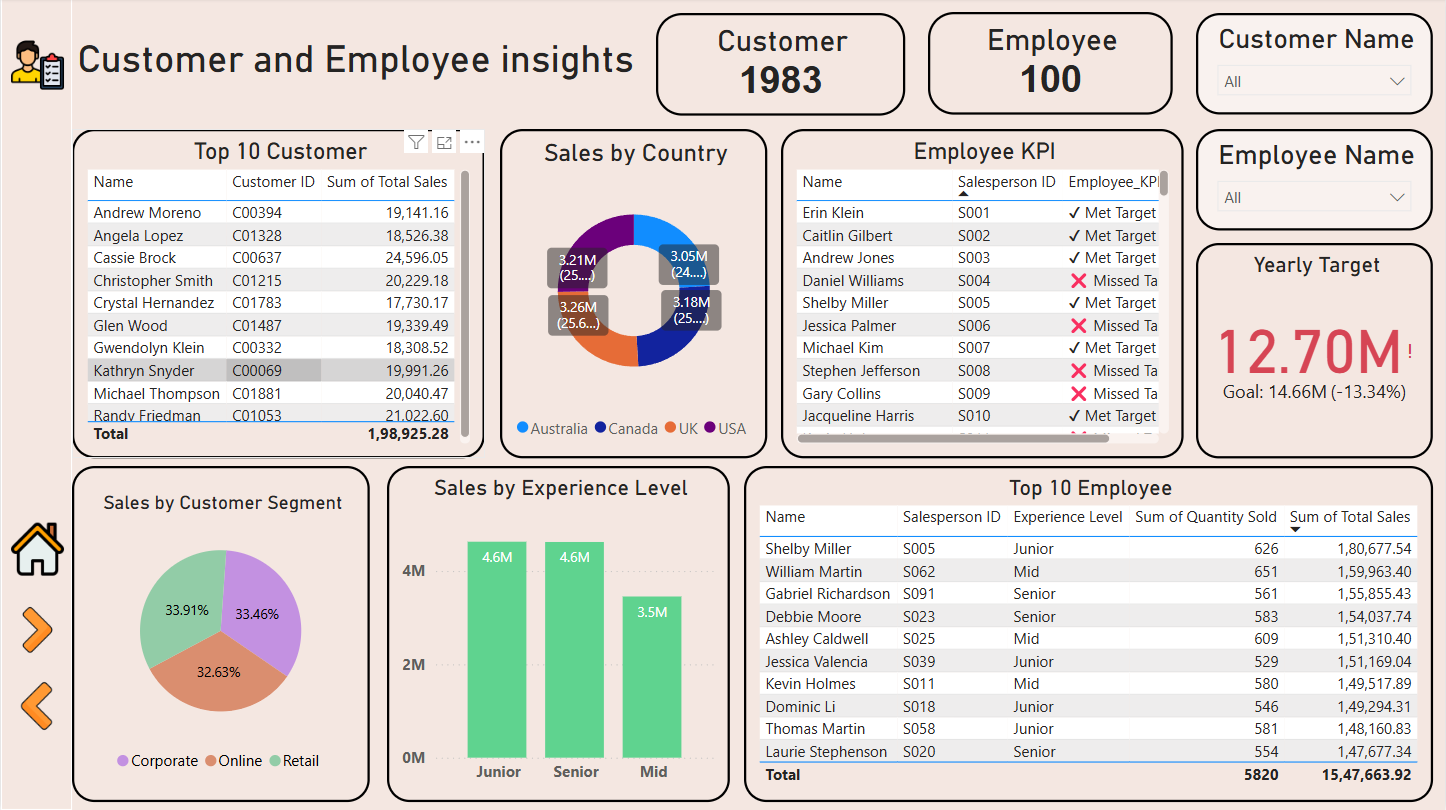

The page's visual inventory and layout, read from the dashboard file:
{"tool":"powerbi","page":{"name":"Customer & Salesperson Insights","canvas":[1280,720],"ordinal":1},"visuals":[{"type":"shape","box":[0,0,63.2,719.8],"z":0},{"type":"image","box":[0,600.1,63.2,55.4],"z":1000},{"type":"image","box":[1,460.1,62.2,57.4],"z":2000},{"type":"image","box":[1,534,62.2,53.5],"z":3000},{"type":"image","box":[1,31,62.2,57.4],"z":4000},{"type":"card","title":"Customer","fields":{"Values":["Count(CustomerDetails.Customer ID)"]},"box":[580.7,13.6,220.8,91.4],"z":5000},{"type":"card","title":"Employee","fields":{"Values":["Count(SalesPerson.Salesperson ID)"]},"box":[821.9,12.6,216.9,91.4],"z":6000},{"type":"slicer","title":"Employee Name","fields":{"Values":["SalesPerson.Salesperson ID"]},"box":[1059.2,115.7,210.1,90.5],"z":7000},{"type":"slicer","title":"Customer Name","fields":{"Values":["CustomerDetails.Name"]},"box":[1059.2,13.6,210.1,90.5],"z":8000},{"type":"columnChart","title":"Sales by Experience Level","fields":{"Category":["SalesPerson.Experience Level"],"Y":["Sum(SalesTransaction.Total Sales)"]},"box":[342.4,415.3,304.4,297.6],"z":9000},{"type":"tableEx","title":"Top 10 Employee","fields":{"Values":["SalesPerson.Name","SalesPerson.Salesperson ID","SalesPerson.Experience Level","Sum(SalesTransaction.Quantity Sold)","Sum(SalesTransaction.Total Sales)"]},"box":[658.5,415.3,610.8,297.6],"z":10000},{"type":"kpi","title":"Yearly Target","fields":{"Goal":["Sum(SalesPerson.Yearly Target)"],"Indicator":["Sum(SalesPerson.Yearly sales Achieved)"],"TrendLine":["SalesTransaction.Year"]},"box":[1059.2,216.9,210.1,190.6],"z":11000},{"type":"pieChart","title":"Sales by Customer Segment","fields":{"Y":["Sum(SalesTransaction.Total Sales)"],"Series":["CustomerDetails.Customer Segment"]},"box":[63.2,415.3,263.6,297.6],"z":12000},{"type":"tableEx","title":"Top 10 Customer","fields":{"Values":["CustomerDetails.Name","CustomerDetails.Customer ID","Sum(SalesTransaction.Total Sales)"]},"box":[63.2,115.7,365.7,291.8],"z":13000},{"type":"tableEx","title":"Employee KPI","fields":{"Values":["SalesPerson.Name","SalesPerson.Salesperson ID","Measure.Employee_KPI_Status"]},"box":[691.6,115.7,357,291.8],"z":14000},{"type":"textbox","box":[63.2,29.2,517.4,59.3],"z":15000},{"type":"donutChart","title":"Sales by Country","fields":{"Series":["CustomerDetails.Country"],"Y":["Sum(SalesTransaction.Total Sales)"]},"box":[442.6,115.7,237.3,291.8],"z":16000}]}

Visuals, with their boxes in screenshot pixels (x1, y1, x2, y2), scaled from the page's 1280x720 canvas onto the 1446x810 screenshot:
shape: region(0, 0, 71, 809)
image: region(0, 675, 71, 737)
image: region(1, 518, 71, 582)
image: region(1, 601, 71, 661)
image: region(1, 35, 71, 99)
"Customer" card: region(656, 15, 905, 118)
"Employee" card: region(928, 14, 1174, 117)
"Employee Name" slicer: region(1197, 130, 1434, 232)
"Customer Name" slicer: region(1197, 15, 1434, 117)
"Sales by Experience Level" columnChart: region(387, 467, 731, 802)
"Top 10 Employee" tableEx: region(744, 467, 1434, 802)
"Yearly Target" kpi: region(1197, 244, 1434, 458)
"Sales by Customer Segment" pieChart: region(71, 467, 369, 802)
"Top 10 Customer" tableEx: region(71, 130, 485, 458)
"Employee KPI" tableEx: region(781, 130, 1185, 458)
textbox: region(71, 33, 656, 100)
"Sales by Country" donutChart: region(500, 130, 768, 458)
